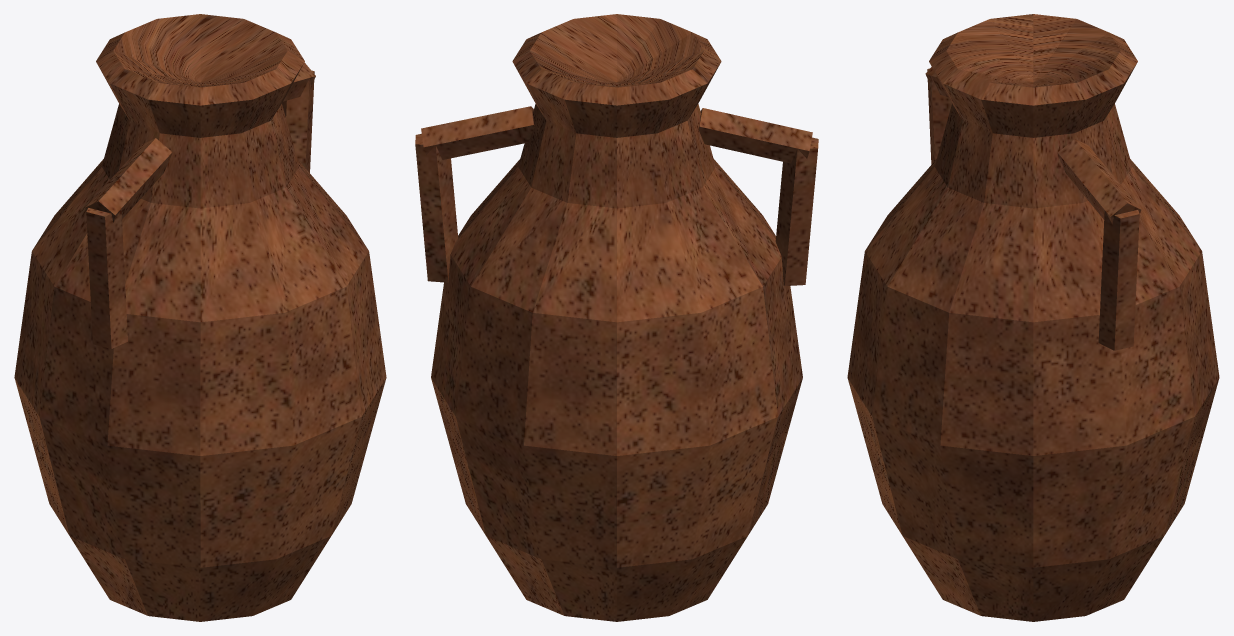
File: pot_clay_a.glb
3 renders of one model, left to right at view 1: azimuth 30°, elevation 25°; view 2: azimuth 150°, elevation 25°; view 3: azimuth 270°, elevation 25°, orthographic.
Parts seen in each view (by area): view 1: pot_clay_a; view 2: pot_clay_a; view 3: pot_clay_a.
Part boxes in pixels (left/top/right/bottom): pot_clay_a: left=14, top=14, right=386, bottom=621; pot_clay_a: left=415, top=14, right=818, bottom=621; pot_clay_a: left=847, top=14, right=1219, bottom=621.
Bounding box in the file's own units: 0.32 × 0.5 × 0.32.
Materials: 1 (1 with a texture image).
